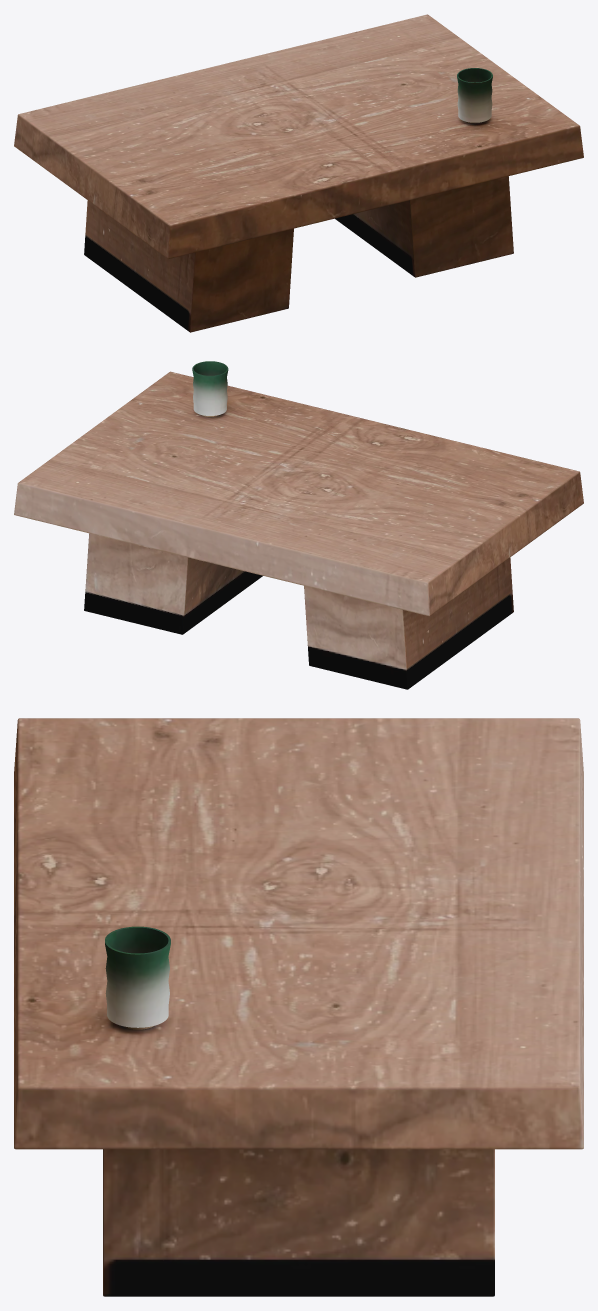
File: table.glb
3 views of the same model, one above another, from view 1: azimuth 30°, elevation 25°; view 2: azimuth 150°, elevation 25°; view 3: azimuth 270°, elevation 25° (orthographic). The views are drawn at different scales.
Bounding box in the file's own units: 19.25 × 7.9 × 12.38.
Materials: 1 (1 with a texture image).
